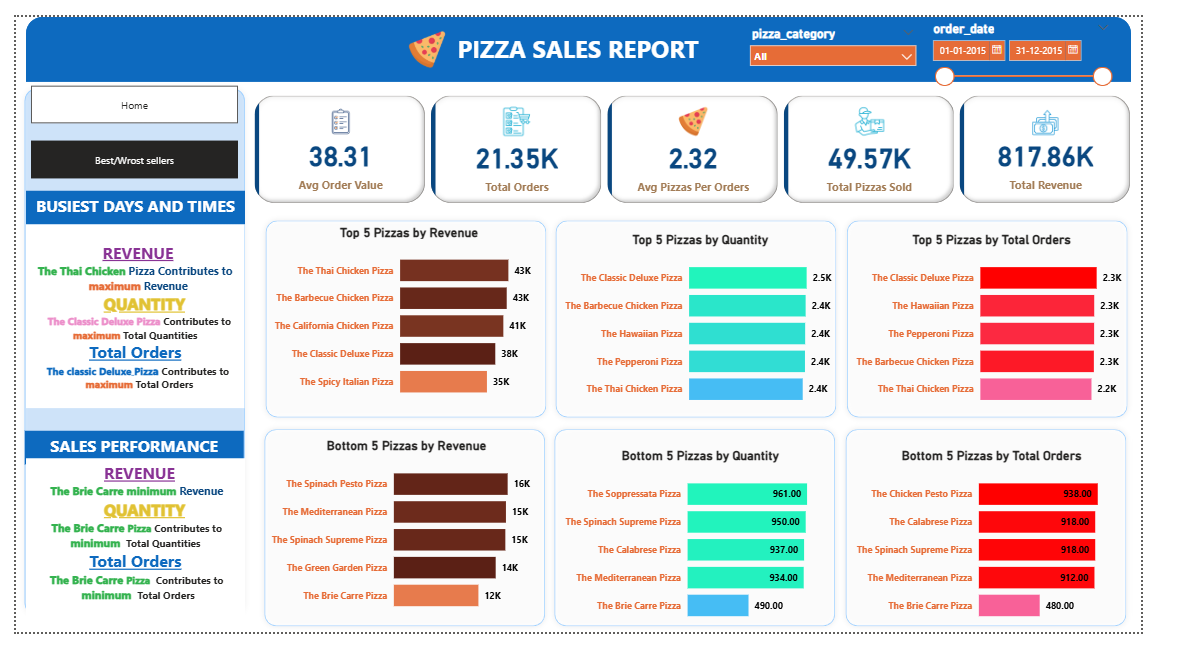

What the dashboard file says about the page in this screenshot:
{"tool":"powerbi","page":{"name":"Best/Wrost  sellers","canvas":[1500,820],"ordinal":1},"visuals":[{"type":"cardVisual","fields":{"Data":["pizza_sales.Avg Order Value","pizza_sales.Total Orders","pizza_sales.Avg Pizzas Per Orders","pizza_sales.Total Pizzas Sold","pizza_sales.Total Revenue"]},"box":[313.3,100,1178.3,153.3],"z":0},{"type":"shape","box":[13.3,0,1473.3,86.7],"z":1},{"type":"textbox","box":[550.5,14.2,398.7,58],"z":2},{"type":"image","box":[511.8,12.9,72,60],"z":3},{"type":"shape","box":[322.6,541.4,390,278.6],"z":8},{"type":"shape","box":[709.7,541.4,390,278.6],"z":9},{"type":"shape","box":[1098.3,541.4,390,278.6],"z":10},{"type":"shape","box":[4,86.5,310,720],"z":14},{"type":"textbox","box":[14,231.5,291.7,45],"z":15},{"type":"textbox","box":[12.5,276.2,291.2,245],"z":16},{"type":"textbox","box":[12.3,551.5,291.7,45],"z":17},{"type":"textbox","box":[14,588.2,291.7,218.3],"z":18},{"type":"slicer","fields":{"Values":["pizza_sales.order_date"]},"box":[1210,0,260,165],"z":19},{"type":"slicer","fields":{"Values":["pizza_sales.pizza_category"]},"box":[968.3,6.7,241.7,65],"z":20},{"type":"shape","box":[324.6,264.1,390,278.6],"z":21},{"type":"shape","box":[711.7,264.1,390,278.6],"z":22},{"type":"shape","box":[1100.3,264.1,390,278.6],"z":23},{"type":"barChart","title":"Top 5 Pizzas by Revenue","fields":{"Category":["pizza_sales.pizza_name"],"Y":["pizza_sales.Total Revenue"]},"box":[338.3,276.7,371.7,245],"z":24},{"type":"barChart","title":"Bottom 5 Pizzas by Revenue","fields":{"Category":["pizza_sales.pizza_name"],"Y":["pizza_sales.Total Revenue"]},"box":[335,561.7,371.7,245],"z":25},{"type":"barChart","title":"Top 5 Pizzas by Quantity","fields":{"Category":["pizza_sales.pizza_name"],"Y":["pizza_sales.Total Pizzas Sold"]},"box":[726.7,286.7,371.7,245],"z":26},{"type":"barChart","title":"Bottom 5 Pizzas by Quantity","fields":{"Category":["pizza_sales.pizza_name"],"Y":["pizza_sales.Total Pizzas Sold"]},"box":[726.7,575,371.7,245],"z":27},{"type":"barChart","title":"Top 5 Pizzas by Total Orders","fields":{"Category":["pizza_sales.pizza_name"],"Y":["pizza_sales.Total Orders"]},"box":[1115,286.7,371.7,245],"z":28},{"type":"barChart","title":"Bottom 5 Pizzas by Total Orders","fields":{"Category":["pizza_sales.pizza_name"],"Y":["pizza_sales.Total Orders"]},"box":[1115,575,371.7,245],"z":29},{"type":"pageNavigator","box":[20,91.7,276.7,50],"z":30},{"type":"pageNavigator","box":[20,165,276.7,50],"z":31}]}

Visuals, with their boxes in screenshot pixels (x1, y1, x2, y2), scaled from the page's 1500x820 canvas onto the 1188x665 screenshot:
cardVisual - pizza_sales.Avg Order Value x pizza_sales.Total Orders: crop(248, 81, 1181, 205)
shape: crop(11, 0, 1177, 70)
textbox: crop(436, 12, 752, 59)
image: crop(405, 10, 462, 59)
shape: crop(255, 439, 564, 664)
shape: crop(562, 439, 871, 664)
shape: crop(870, 439, 1179, 664)
shape: crop(3, 70, 249, 654)
textbox: crop(11, 188, 242, 224)
textbox: crop(10, 224, 241, 423)
textbox: crop(10, 447, 241, 484)
textbox: crop(11, 477, 242, 654)
slicer - pizza_sales.order_date: crop(958, 0, 1164, 134)
slicer - pizza_sales.pizza_category: crop(767, 5, 958, 58)
shape: crop(257, 214, 566, 440)
shape: crop(564, 214, 873, 440)
shape: crop(871, 214, 1180, 440)
"Top 5 Pizzas by Revenue" barChart: crop(268, 224, 562, 423)
"Bottom 5 Pizzas by Revenue" barChart: crop(265, 456, 560, 654)
"Top 5 Pizzas by Quantity" barChart: crop(576, 233, 870, 431)
"Bottom 5 Pizzas by Quantity" barChart: crop(576, 466, 870, 664)
"Top 5 Pizzas by Total Orders" barChart: crop(883, 233, 1177, 431)
"Bottom 5 Pizzas by Total Orders" barChart: crop(883, 466, 1177, 664)
pageNavigator: crop(16, 74, 235, 115)
pageNavigator: crop(16, 134, 235, 174)
